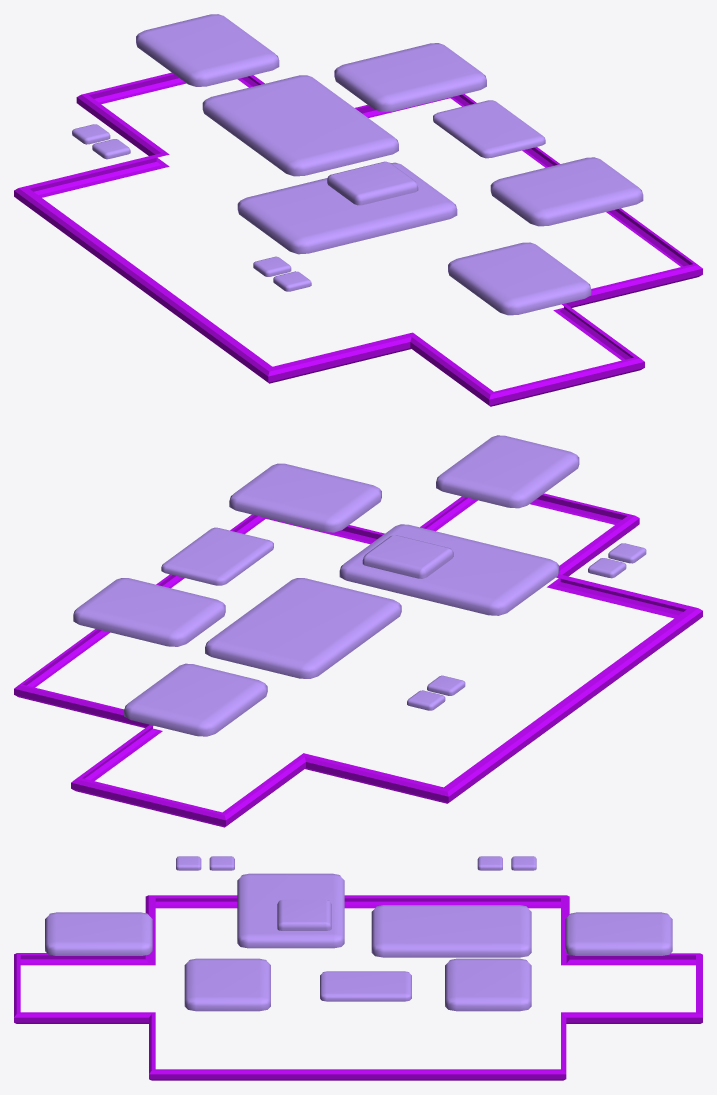
File: wall_deco2.fbx
The picture shows the model from 3 angles, top to bottom: view 1: azimuth 30°, elevation 25°; view 2: azimuth 150°, elevation 25°; view 3: azimuth 270°, elevation 25°; orthographic projection. The views are drawn at different scales.
Visible parts, largest first — view 1: wall_deco2; view 2: wall_deco2; view 3: wall_deco2.
Part boxes in pixels (x1,y1,x2,y2): wall_deco2: (14,14,702,406); wall_deco2: (14,435,702,827); wall_deco2: (14,856,702,1080).
Size of the model in its own units: 934 by 183 by 1530.
